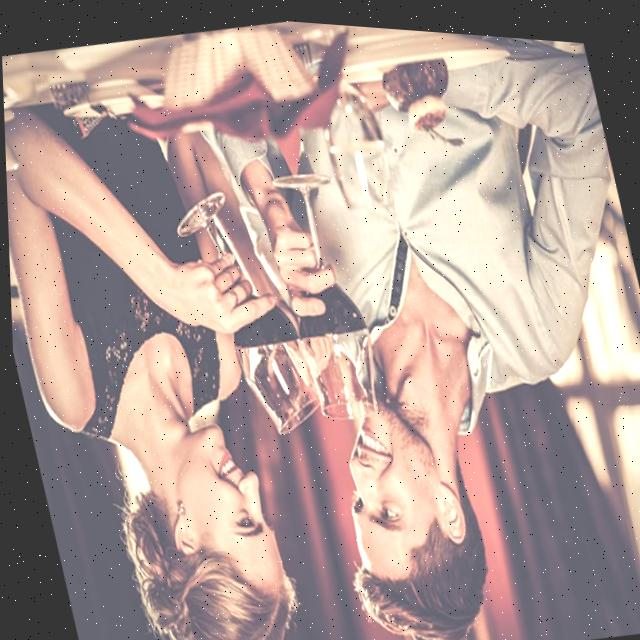eating-person: (234, 14, 640, 640), (1, 50, 369, 640)
